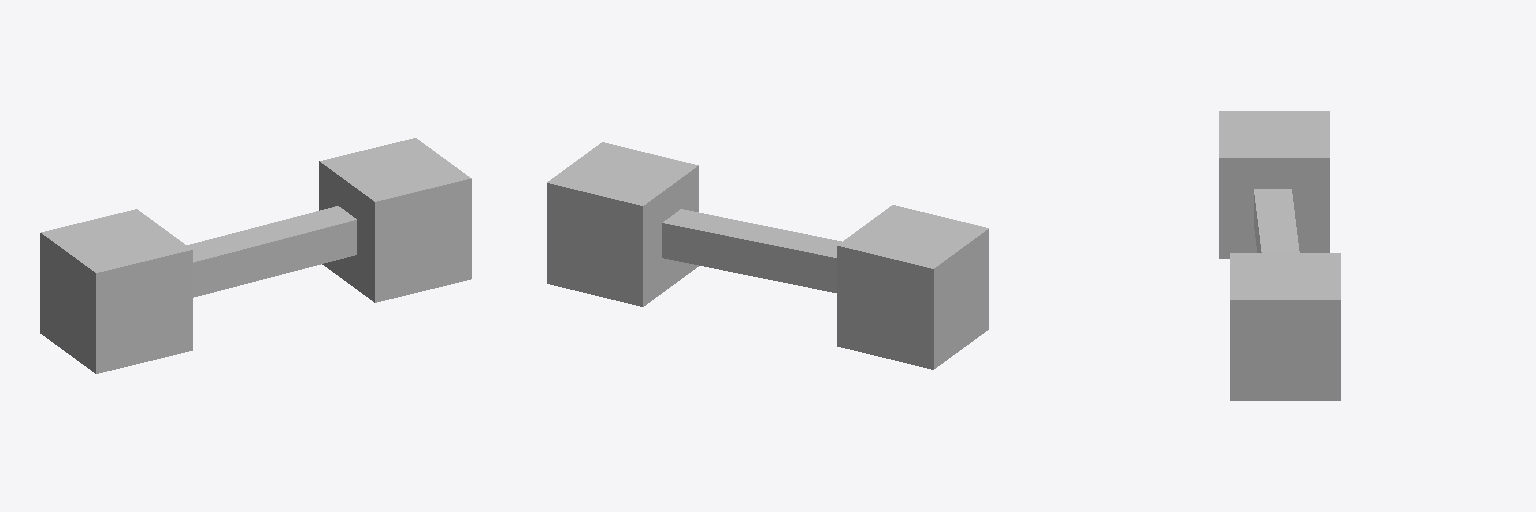
File: dumbbell.obj
3 renders of one model, left to right at view 1: azimuth 30°, elevation 25°; view 2: azimuth 150°, elevation 25°; view 3: azimuth 270°, elevation 25°, orthographic.
Parts seen in each view (by area): view 1: Cube.001_Cube.002; view 2: Cube.001_Cube.002; view 3: Cube.001_Cube.002.
Boxes of the visible parts, x1=… form: Cube.001_Cube.002: x1=40, y1=138, x2=471, y2=373; Cube.001_Cube.002: x1=547, y1=142, x2=988, y2=369; Cube.001_Cube.002: x1=1219, y1=111, x2=1340, y2=400.
Size of the model in its own units: 7.9 by 2.05 by 2.21.